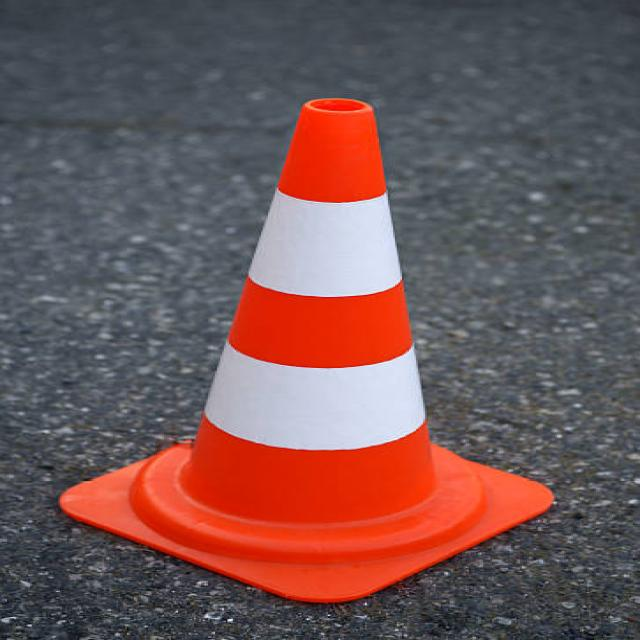Traffic Cone: (18, 68, 623, 619)
